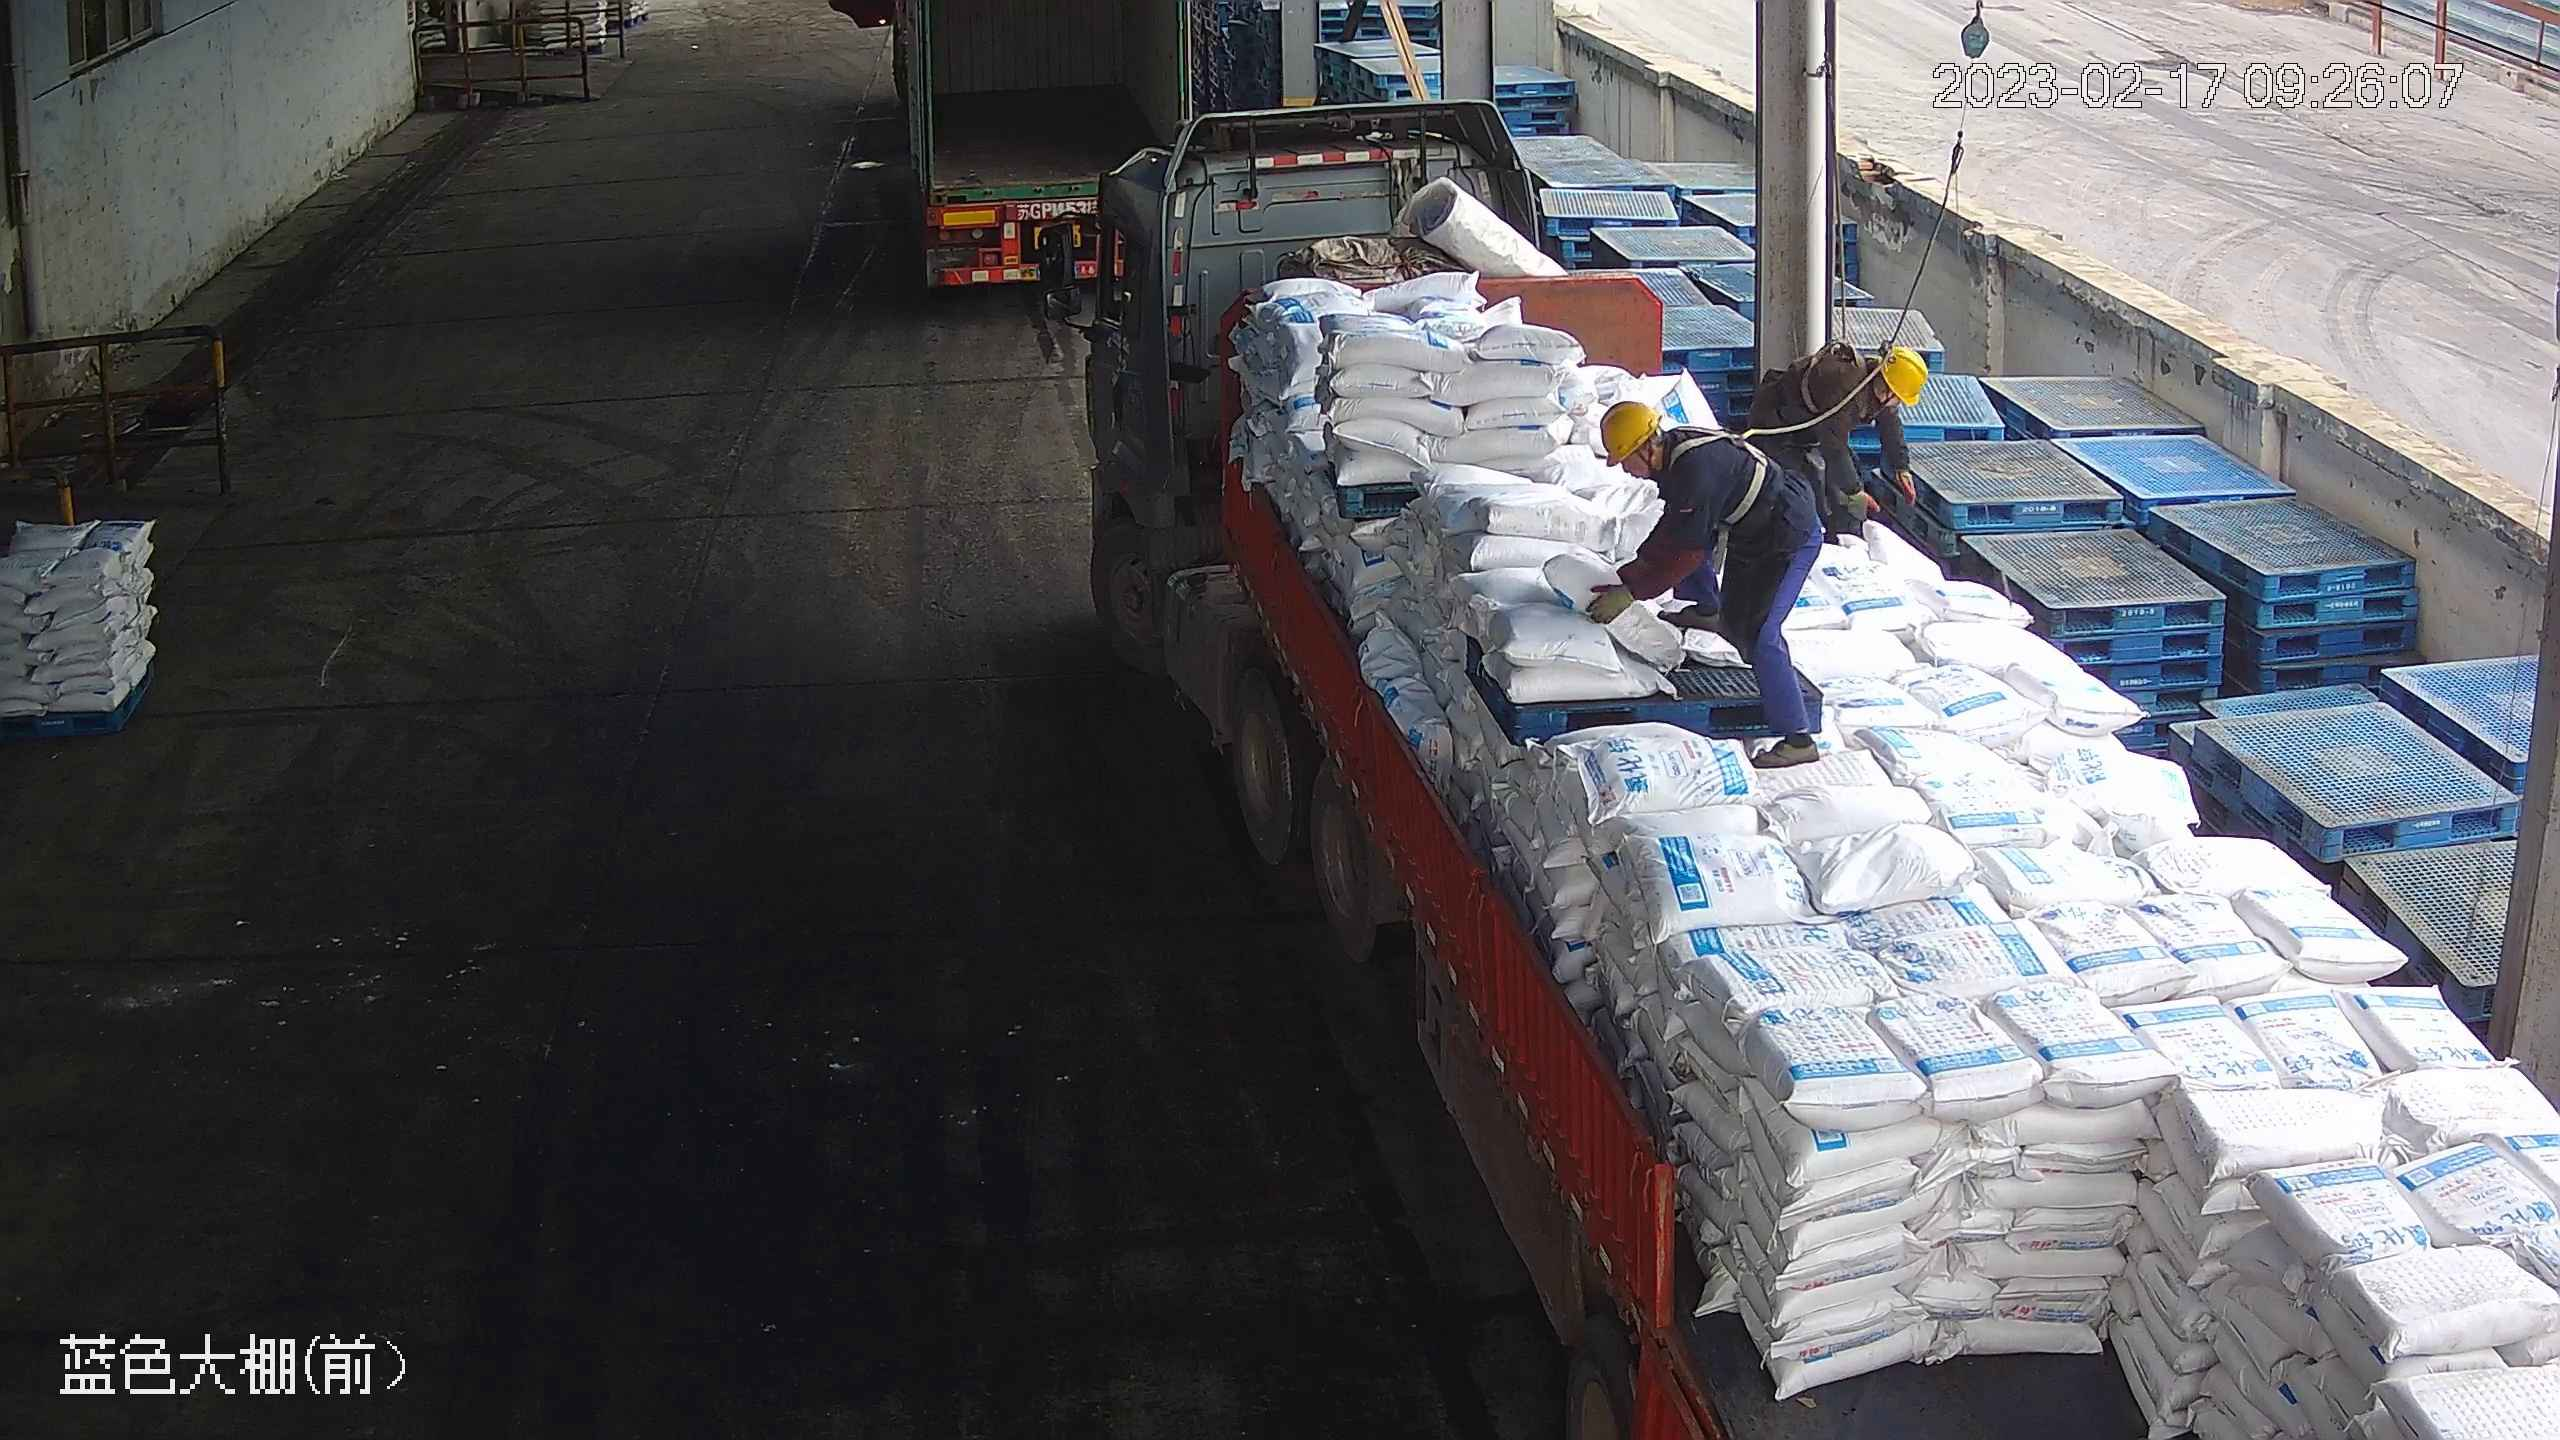belt: (1669, 416, 1773, 525), (1800, 336, 1871, 421)
head: (1592, 397, 1733, 505)
helmet: (1598, 398, 1662, 465), (1880, 343, 1928, 406)
people: (1581, 393, 1830, 765), (1751, 344, 1925, 556)
truck: (1051, 101, 2550, 1440), (884, 1, 1194, 294)
